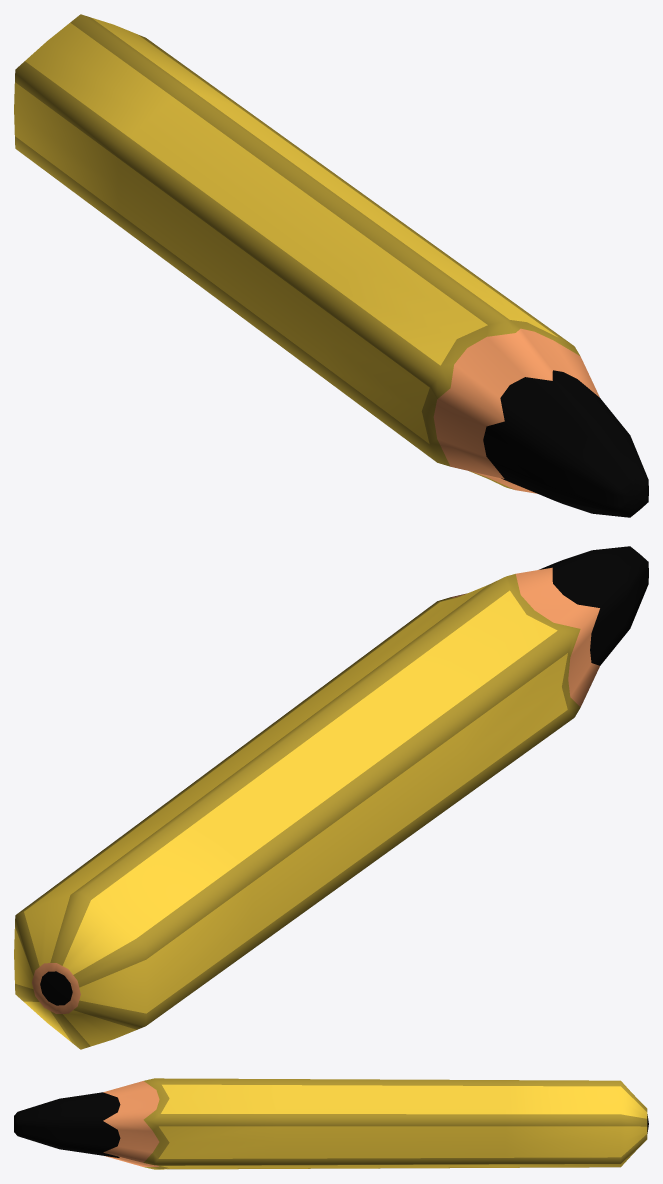
Rendered from cac3.fbx.
The picture shows the model from 3 angles, top to bottom: view 1: azimuth 30°, elevation 25°; view 2: azimuth 150°, elevation 25°; view 3: azimuth 270°, elevation 25°; orthographic projection. The views are drawn at different scales.
Parts seen in each view (by area): view 1: crayon; view 2: crayon; view 3: crayon.
Part boxes in pixels (x1=…): crayon: x1=14, y1=14, x2=648, y2=517; crayon: x1=14, y1=546, x2=648, y2=1049; crayon: x1=14, y1=1078, x2=648, y2=1169.
Bounding box in the file's own units: 0.219 × 1.57 × 0.248.
